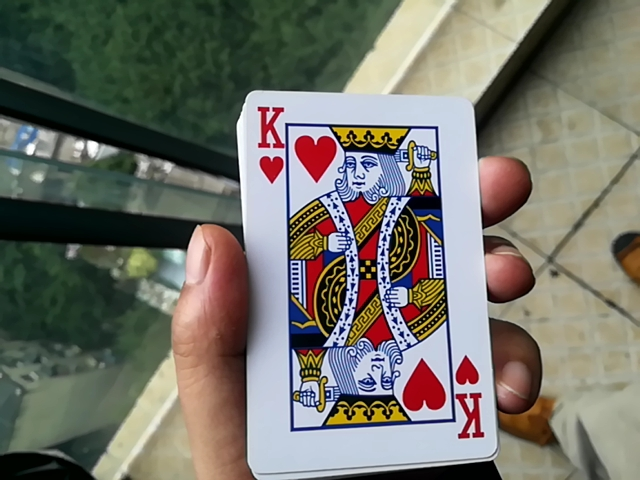hx k: (230, 79, 479, 476)
